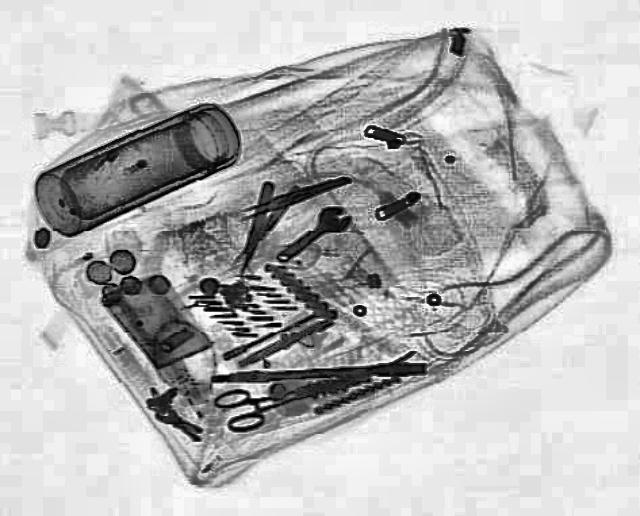Scissors: (207, 358, 367, 434)
Wrench: (264, 200, 356, 266)
